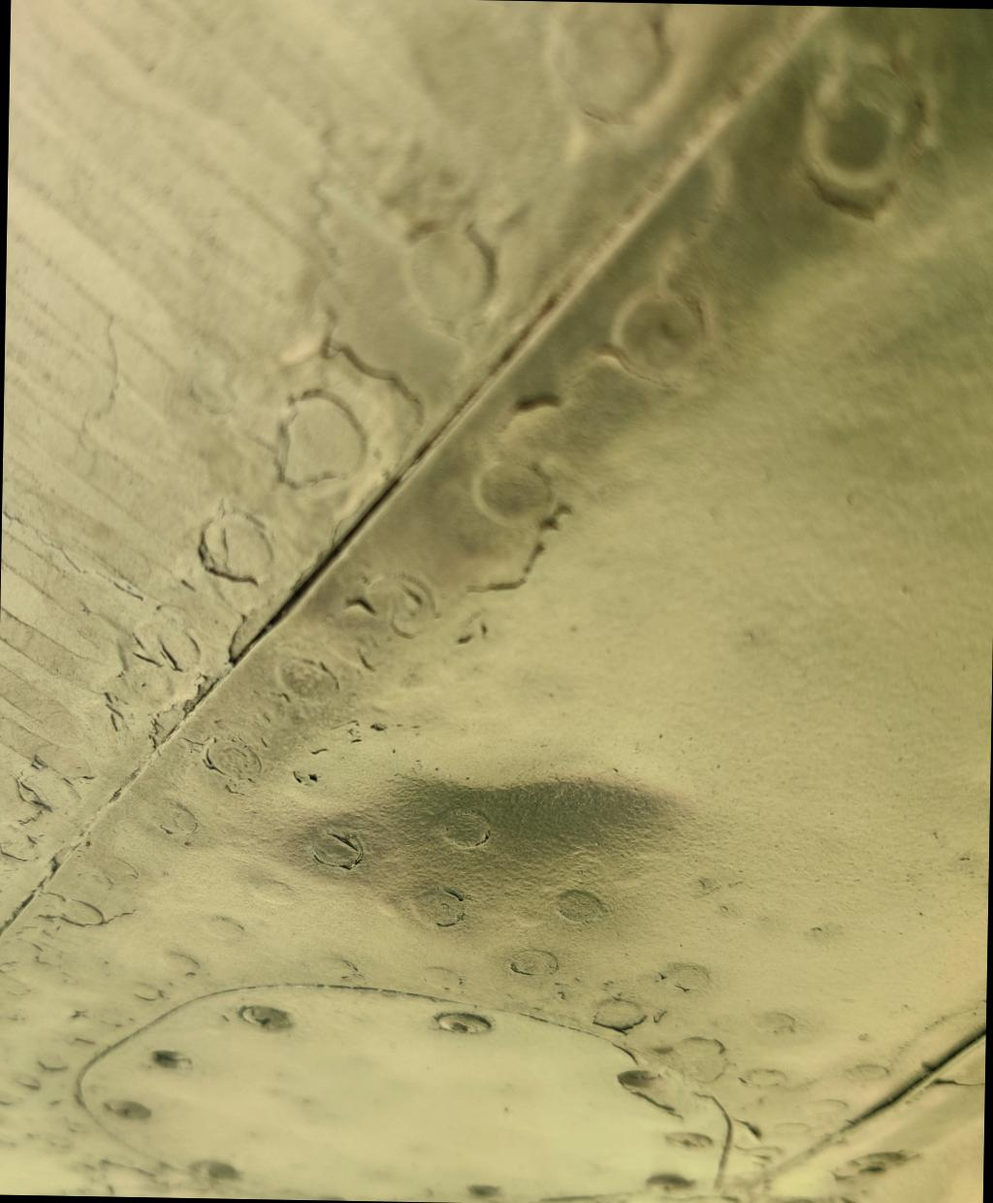dent: (294, 775, 710, 1005)
